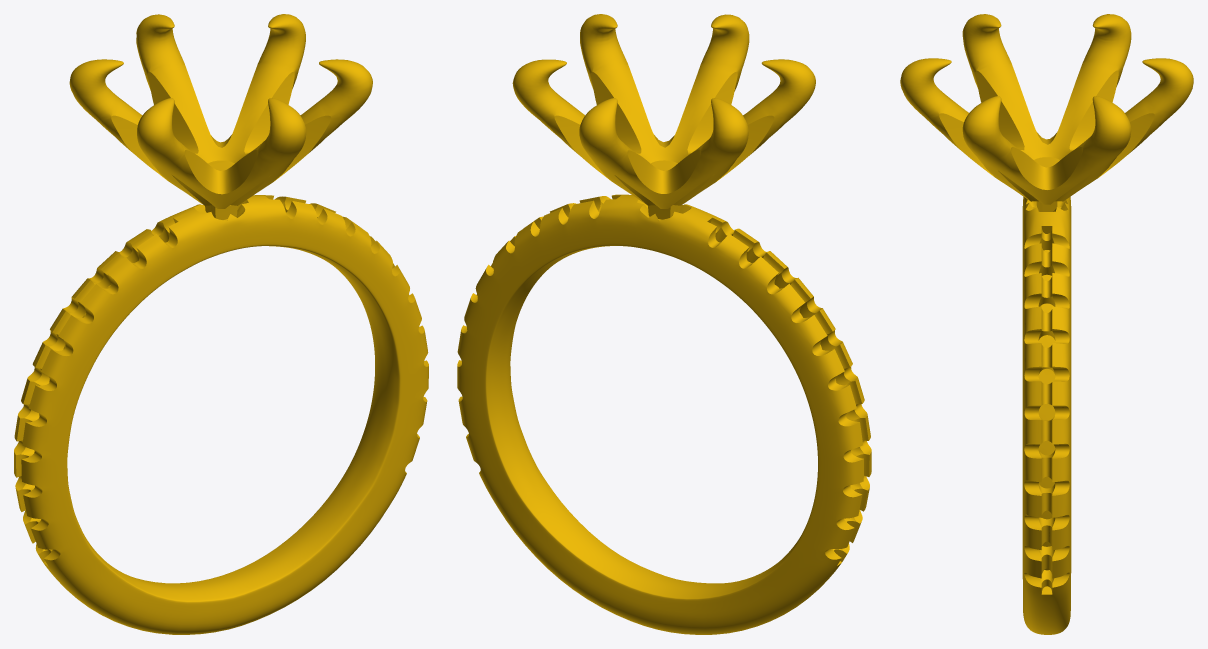
The model's file is golden_ring.glb.
3 views of the same model, side by side, from view 1: azimuth 30°, elevation 25°; view 2: azimuth 150°, elevation 25°; view 3: azimuth 270°, elevation 25° (orthographic). The views are drawn at different scales.
Parts seen in each view (by area): view 1: ring, crown; view 2: ring, crown; view 3: crown, ring.
Boxes of the visible parts, <box> form: ring: <box>14,195,428,634</box>; crown: <box>69,14,372,219</box>; ring: <box>457,194,871,634</box>; crown: <box>512,14,815,219</box>; crown: <box>900,14,1193,211</box>; ring: <box>1022,196,1071,634</box>.
Size of the model in its own units: 0.0212 by 0.0282 by 0.0136.
